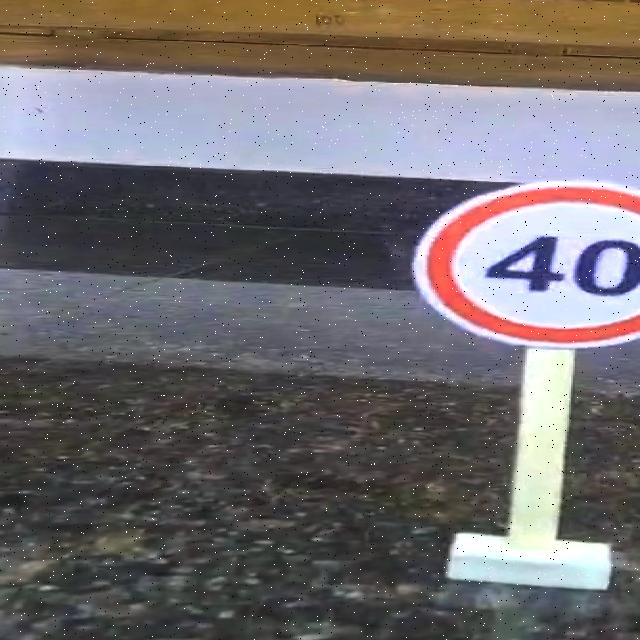Speed40: (406, 174, 640, 354)
